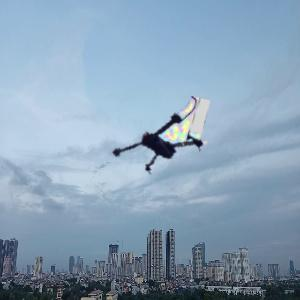drone: (102, 89, 209, 196)
